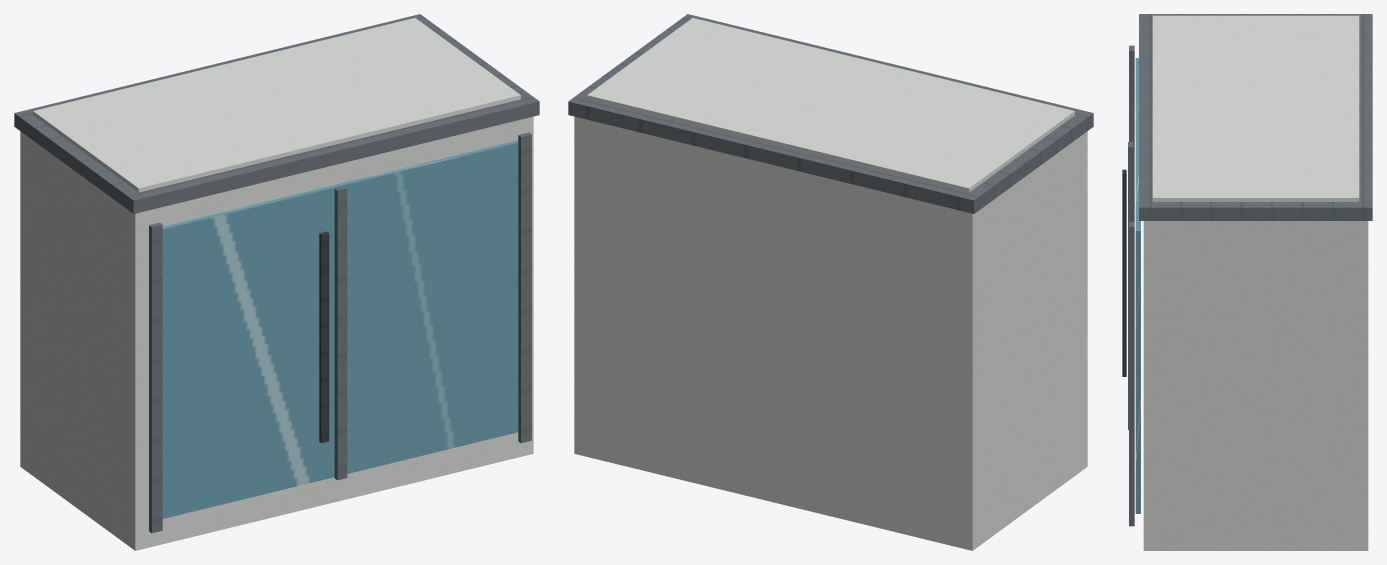
The model's file is Freezer_2x1.obj.
3 views of the same model, side by side, from view 1: azimuth 30°, elevation 25°; view 2: azimuth 150°, elevation 25°; view 3: azimuth 270°, elevation 25° (orthographic). The views are drawn at different scales.
Visible parts, largest first — view 1: Freezer_2x1; view 2: Freezer_2x1; view 3: Freezer_2x1.
Boxes of the visible parts, left/top/right/bottom form: Freezer_2x1: left=14, top=14, right=539, bottom=550; Freezer_2x1: left=568, top=14, right=1093, bottom=550; Freezer_2x1: left=1122, top=14, right=1372, bottom=550.
Bounding box in the file's own units: 2.04 × 1.72 × 1.12.
Materials: 4 (4 with a texture image).
